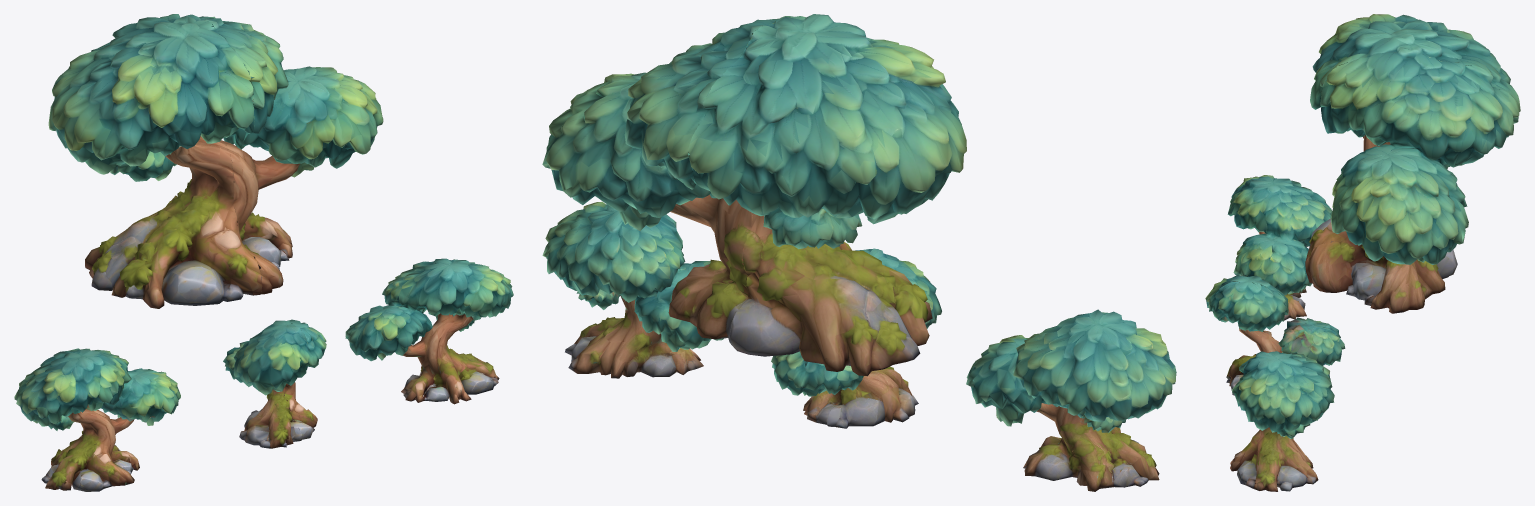
Rendered from canopy_grove_tall.glb.
3 renders of one model, left to right at view 1: azimuth 30°, elevation 25°; view 2: azimuth 150°, elevation 25°; view 3: azimuth 270°, elevation 25°, orthographic. The views are drawn at different scales.
Visible parts, largest first — view 1: mesh_node; view 2: mesh_node; view 3: mesh_node.
Boxes of the visible parts, box(x1,y1,x2,y2) form: mesh_node: box(14, 14, 513, 491); mesh_node: box(542, 14, 1176, 491); mesh_node: box(1205, 14, 1520, 491).
Size of the model in its own units: 1.9 by 1.33 by 1.1.
1 material, 1 textured.
